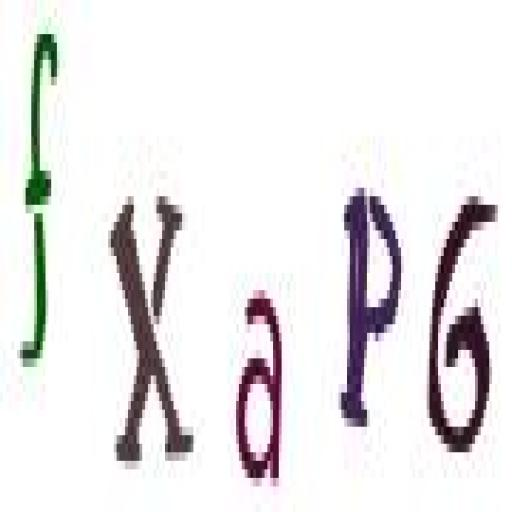6: (423, 186, 502, 466)
P: (335, 182, 404, 430)
X: (103, 190, 199, 483)
a: (233, 283, 287, 492)
f: (14, 23, 63, 392)
